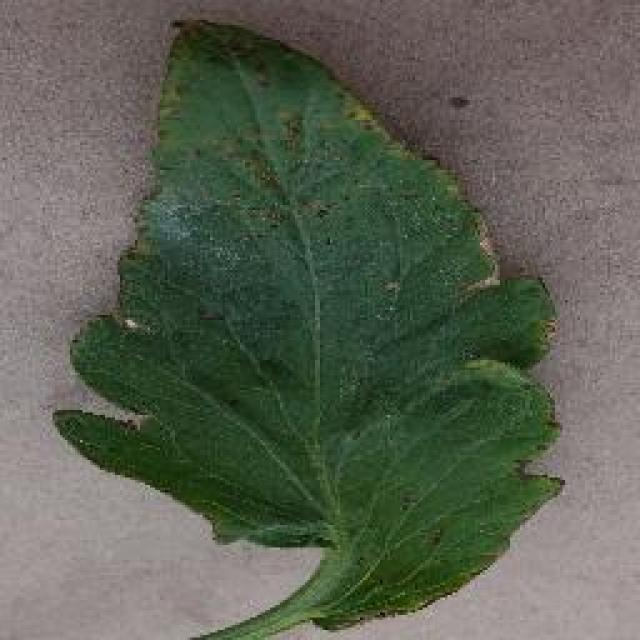Tomato bacterial spot leaf: (53, 6, 568, 640)
